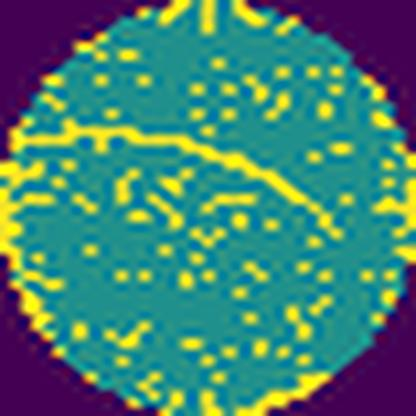Scratch: (11, 112, 350, 244)
